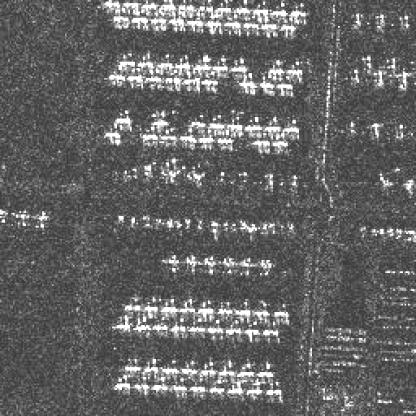airplane: (159, 252, 182, 276), (147, 110, 170, 130), (229, 57, 250, 78), (224, 112, 247, 130), (214, 132, 235, 151), (32, 208, 51, 229), (270, 0, 289, 21), (262, 114, 282, 133), (245, 112, 264, 132), (286, 62, 306, 81), (115, 53, 135, 72), (193, 0, 214, 18), (231, 0, 252, 18), (264, 60, 284, 78), (211, 55, 229, 75), (194, 54, 212, 74), (213, 0, 231, 20), (250, 136, 272, 152), (281, 114, 299, 133), (10, 208, 29, 226), (136, 53, 154, 72), (250, 2, 268, 21), (289, 2, 307, 21), (187, 114, 208, 130), (182, 255, 200, 273), (253, 302, 273, 318), (216, 301, 236, 317), (240, 255, 257, 273), (148, 376, 167, 392), (262, 380, 281, 396), (122, 296, 141, 312), (224, 380, 244, 395), (175, 297, 195, 312), (112, 112, 132, 127), (112, 374, 130, 390), (122, 358, 140, 374), (255, 362, 273, 378), (208, 317, 224, 335), (262, 320, 280, 336), (272, 304, 290, 320), (234, 300, 250, 318), (156, 55, 172, 73), (222, 21, 240, 37), (206, 379, 226, 393), (102, 128, 122, 142), (237, 80, 257, 94), (128, 15, 148, 29), (135, 315, 151, 332), (226, 318, 242, 335), (169, 377, 187, 392), (203, 255, 218, 273), (273, 133, 288, 151), (276, 81, 294, 96), (167, 18, 187, 31), (142, 358, 158, 374), (161, 358, 177, 374), (179, 359, 195, 375), (198, 359, 214, 375), (161, 299, 177, 315), (221, 257, 237, 273), (258, 257, 274, 273), (174, 57, 190, 73), (177, 0, 193, 16), (395, 13, 411, 29), (237, 362, 254, 377), (245, 380, 262, 395), (195, 301, 213, 315), (210, 110, 224, 128), (256, 80, 274, 94), (260, 23, 278, 37), (242, 22, 260, 36), (204, 21, 223, 34), (132, 377, 148, 392), (153, 315, 169, 330), (245, 320, 260, 336), (143, 299, 159, 314), (150, 18, 167, 32), (180, 78, 198, 91), (200, 76, 219, 88), (117, 315, 132, 330), (188, 378, 204, 392), (218, 361, 234, 375), (171, 318, 187, 332), (188, 319, 204, 333), (106, 72, 124, 84), (138, 132, 159, 142), (112, 15, 127, 29), (348, 69, 362, 84), (384, 55, 398, 70), (197, 135, 213, 148), (127, 73, 143, 86), (160, 0, 176, 13), (372, 70, 385, 86), (280, 23, 298, 34), (395, 72, 408, 87), (187, 20, 203, 32), (359, 56, 375, 68), (367, 119, 379, 135), (122, 0, 140, 10), (140, 0, 158, 10), (374, 12, 384, 30), (145, 75, 161, 86), (351, 10, 362, 26), (163, 76, 177, 88), (160, 132, 176, 142), (177, 133, 193, 143), (395, 122, 405, 138), (344, 118, 354, 132), (140, 214, 151, 226), (153, 216, 164, 228), (229, 221, 239, 232), (210, 219, 218, 232), (115, 213, 125, 223), (237, 219, 247, 229), (166, 216, 174, 228), (174, 216, 182, 228), (102, 0, 118, 6), (247, 223, 257, 232), (221, 221, 229, 232), (128, 216, 136, 226), (182, 218, 190, 228), (268, 223, 275, 234), (260, 223, 268, 232), (195, 219, 201, 229)
